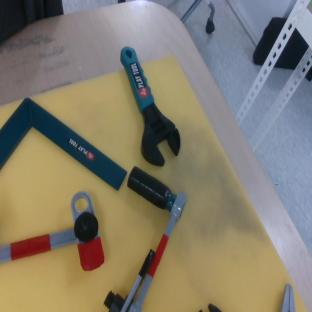non_pass: (85, 165, 191, 312)
pass: (0, 191, 106, 289)
